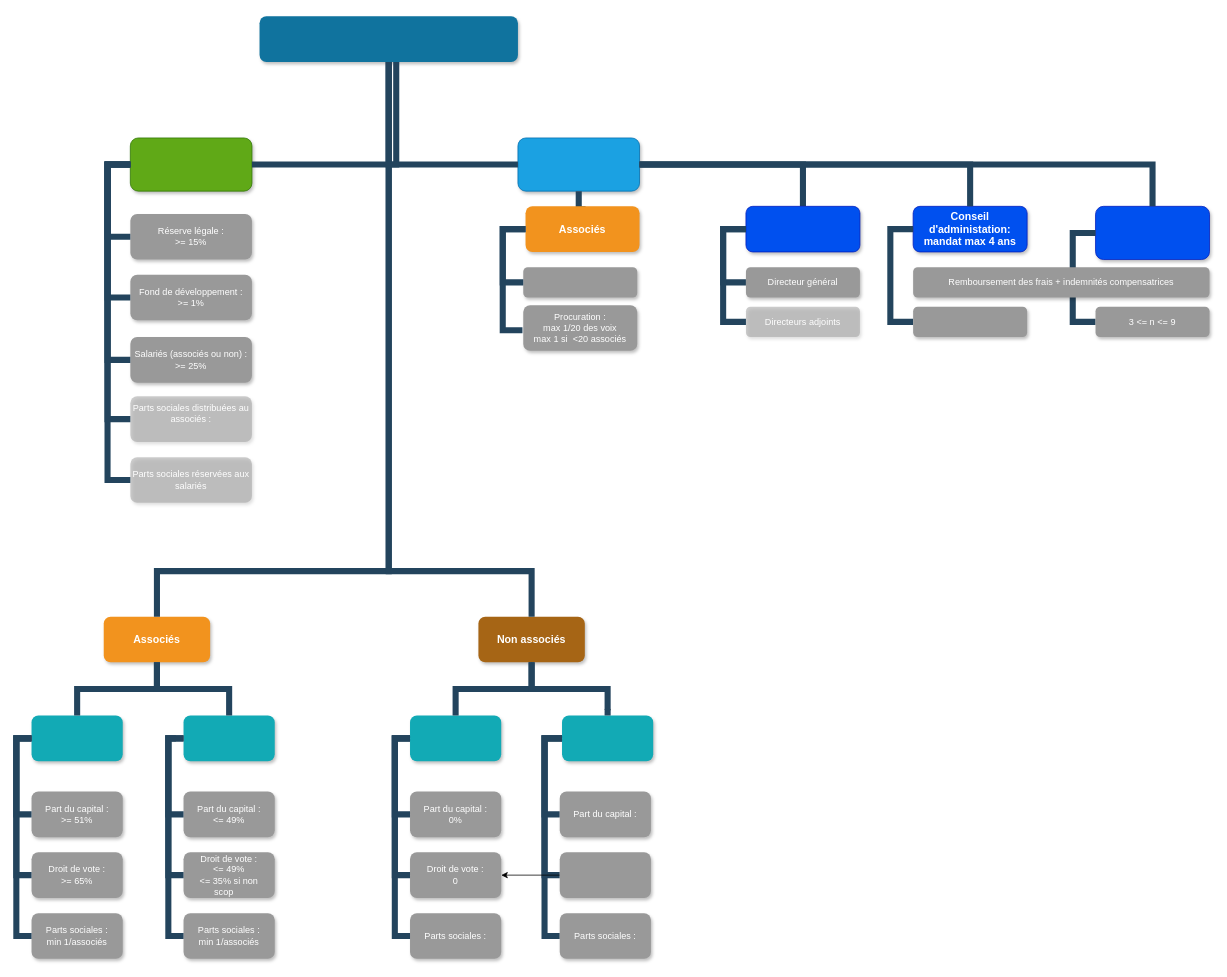
Image size: 1227x977. Some labels were removed from this diagram. The shapes that lost their labels are listed below. From the top down, each one's centre as x and y in pixels, then its label:
At pixel 389 40: "ft_scop hypothèse : SAS".
At pixel 191 165: "Répartition des bénęfices :".
At pixel 579 165: "Assemblée générale 1 / an".
At pixel 803 230: "Direction : mandat max 4 ans".
At pixel 1153 234: "Conseil de surveillance Si associés > 20 : mandat max 4 ans".
At pixel 580 283: "1 associé = 1 voix".
At pixel 970 322: "Gérant".
At pixel 77 739: "Employés : >= 2".
At pixel 229 739: "Non employés : - personnes physiques - personne morale".
At pixel 456 739: "Employés".
At pixel 608 739: "Personnes physiques ou morales".
At pixel 605 876: "Droit de vote :".
